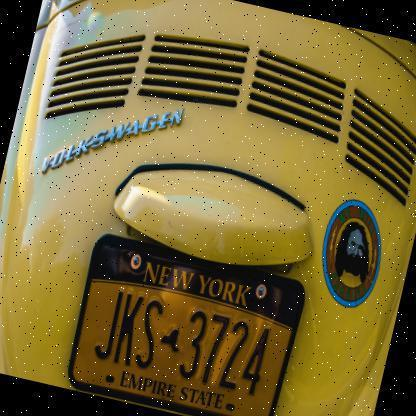License-Plate: (53, 217, 322, 415)
